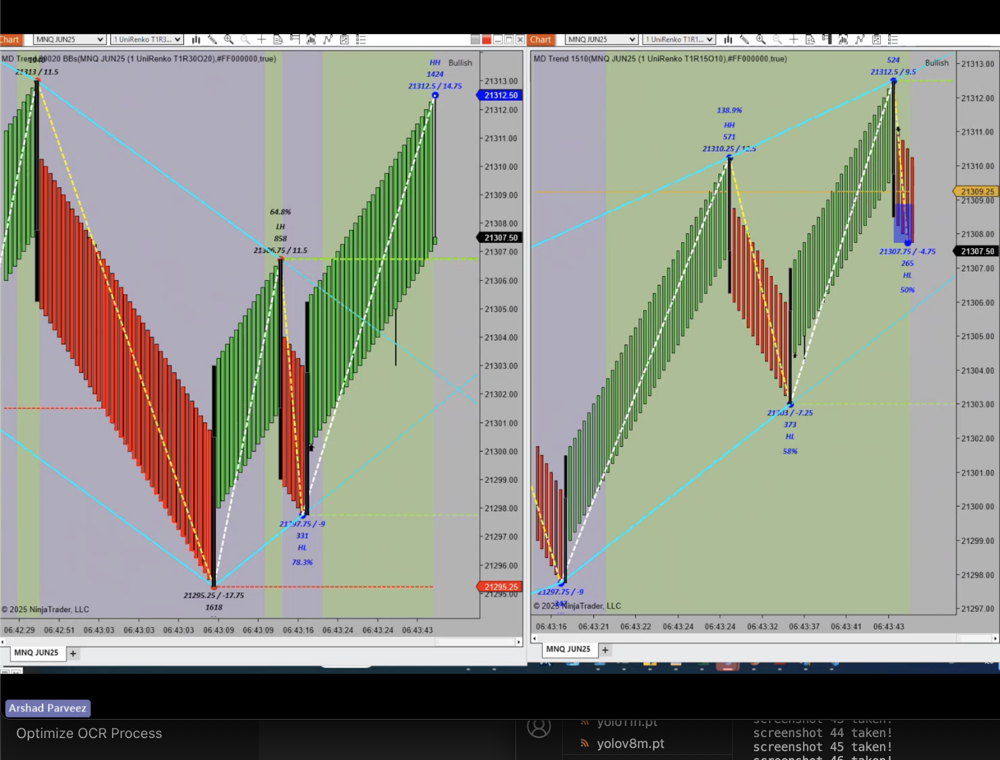HH: (717, 118, 743, 133), (422, 55, 444, 69)
HL: (290, 537, 315, 556), (896, 265, 916, 283), (780, 432, 801, 445)
LH: (267, 220, 291, 235)
